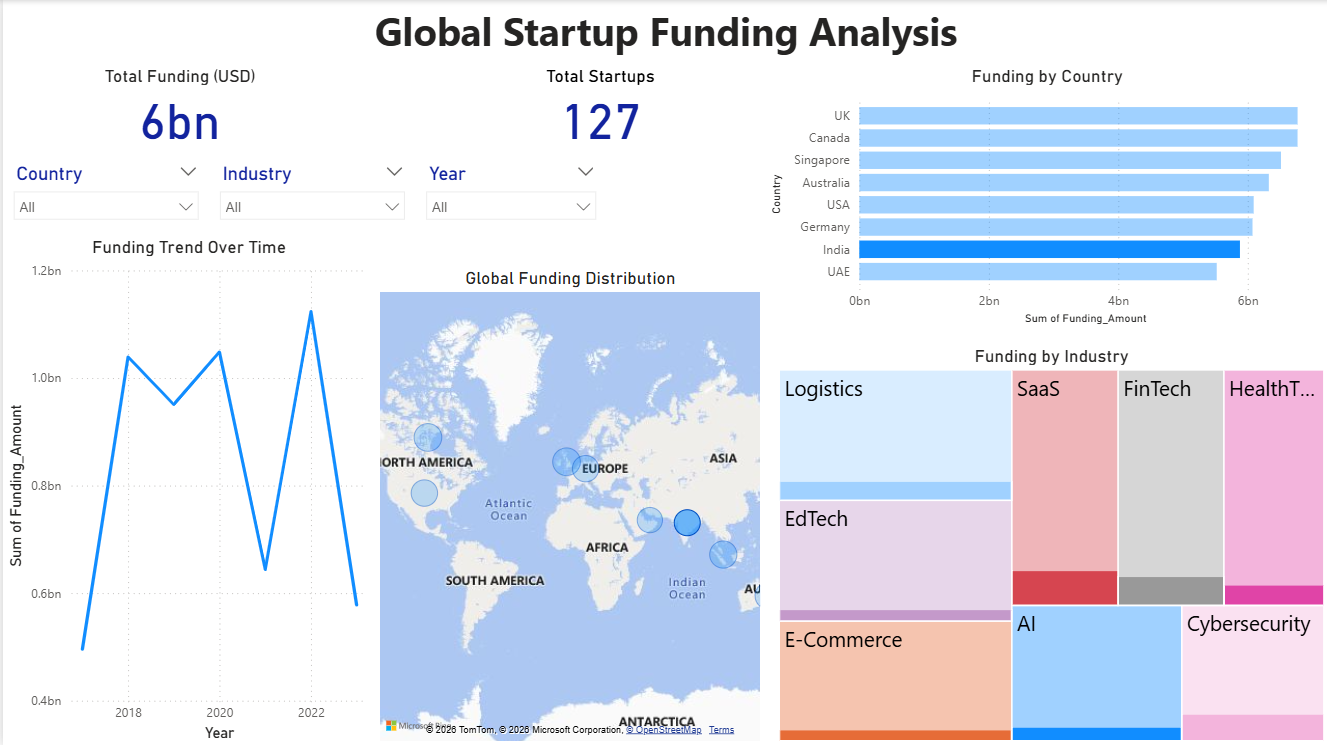

This screenshot's page, from the dashboard's own definition file:
{"tool":"powerbi","page":{"name":"Page 1","canvas":[1280,720],"ordinal":0},"visuals":[{"type":"card","title":"Total Funding (USD)","fields":{"Values":["Sum(Sample dataset.Funding_Amount)"]},"box":[0,62.7,341.4,78.4],"z":0},{"type":"card","title":"Total Startups","fields":{"Values":["Sample dataset.Total Startups"]},"box":[417.4,62.7,318.5,78.4],"z":1000},{"type":"lineChart","title":"Funding Trend Over Time","fields":{"Category":["Sample dataset.Date.Variation.Date Hierarchy.Year","Sample dataset.Date.Variation.Date Hierarchy.Quarter","Sample dataset.Date.Variation.Date Hierarchy.Month","Sample dataset.Date.Variation.Date Hierarchy.Day"],"Y":["Sum(Sample dataset.Funding_Amount)"]},"box":[0,228,359.5,492.2],"z":2000},{"type":"clusteredBarChart","title":"Funding by Country","fields":{"Category":["Sample dataset.Country"],"Y":["Sum(Sample dataset.Funding_Amount)"]},"box":[735.9,62.7,544.1,255.8],"z":3000},{"type":"treemap","title":"Funding by Industry","fields":{"Group":["Sample dataset.Industry"],"Values":["Sum(Sample dataset.Funding_Amount)"]},"box":[744.4,333,535.7,387.3],"z":4000},{"type":"textbox","box":[0,0,1280,62.7],"z":5000},{"type":"slicer","fields":{"Values":["Sample dataset.Country"]},"box":[0,152,199.1,74.8],"z":6000},{"type":"slicer","fields":{"Values":["Sample dataset.Industry"]},"box":[199.1,152,199.1,73.6],"z":7000},{"type":"slicer","fields":{"Values":["Sample dataset.Date.Variation.Date Hierarchy.Year","Sample dataset.Date.Variation.Date Hierarchy.Quarter","Sample dataset.Date.Variation.Date Hierarchy.Month","Sample dataset.Date.Variation.Date Hierarchy.Day"]},"box":[398.1,152,184.6,76],"z":8000},{"type":"map","title":"Global Funding Distribution","fields":{"Category":["Sample dataset.Country"],"Size":["Sum(Sample dataset.Funding_Amount)"]},"box":[359.5,258.2,376.4,462.1],"z":9000}]}

Visuals, with their boxes in screenshot pixels (x1, y1, x2, y2), scaled from the page's 1280x720 canvas onto the 1327x745 screenshot:
"Total Funding (USD)" card: [left=0, top=65, right=354, bottom=146]
"Total Startups" card: [left=433, top=65, right=763, bottom=146]
"Funding Trend Over Time" lineChart: [left=0, top=236, right=373, bottom=744]
"Funding by Country" clusteredBarChart: [left=763, top=65, right=1326, bottom=330]
"Funding by Industry" treemap: [left=772, top=345, right=1326, bottom=744]
textbox: [left=0, top=0, right=1326, bottom=65]
slicer - Sample dataset.Country: [left=0, top=157, right=206, bottom=235]
slicer - Sample dataset.Industry: [left=206, top=157, right=413, bottom=233]
slicer - Sample dataset.Date.Variation.Date Hierarchy.Year x Sample dataset.Date.Variation.Date Hierarchy.Quarter: [left=413, top=157, right=604, bottom=236]
"Global Funding Distribution" map: [left=373, top=267, right=763, bottom=744]
